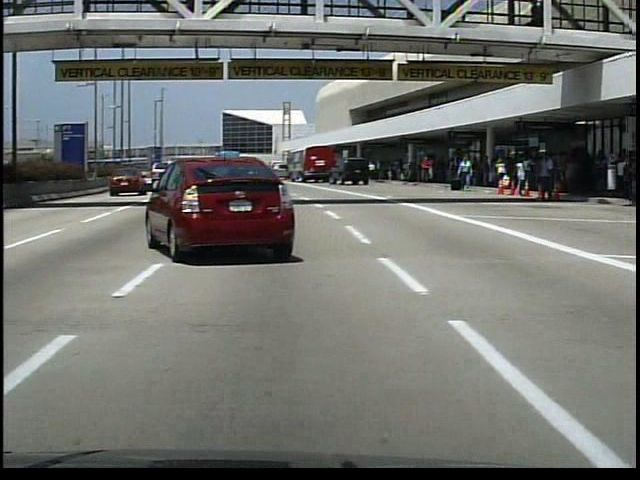person: (533, 153, 555, 205), (456, 155, 474, 194), (419, 156, 433, 184), (367, 163, 377, 181)
